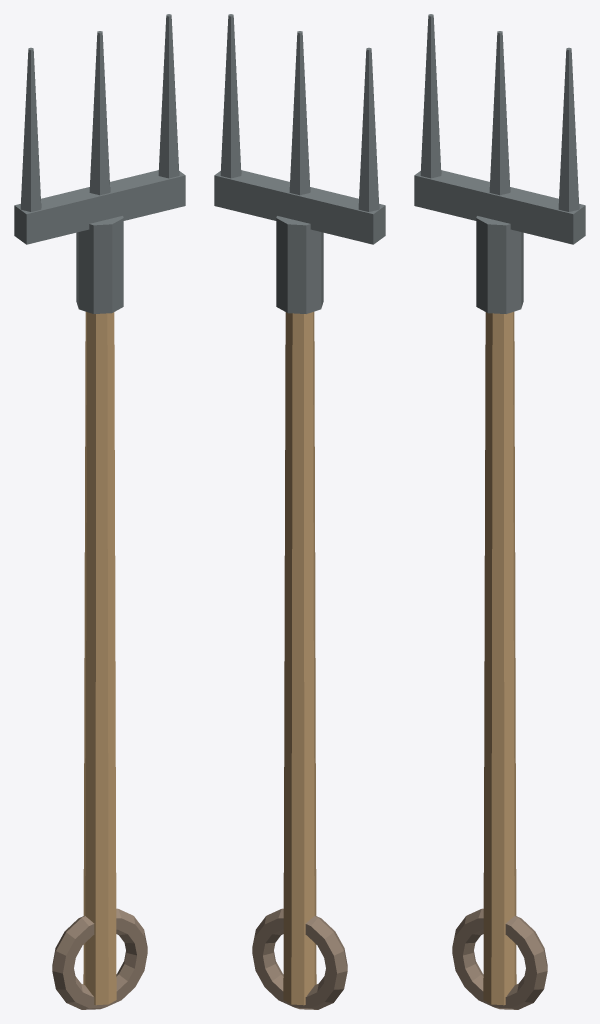
Rendered from harvest-hearth-three-tine-pitchfork__67.glb.
3 renders of one model, left to right at view 1: azimuth 30°, elevation 25°; view 2: azimuth 150°, elevation 25°; view 3: azimuth 330°, elevation 25°, orthographic.
Parts seen in each view (by area): view 1: harvest-hearth-pitchfork; view 2: harvest-hearth-pitchfork; view 3: harvest-hearth-pitchfork.
Part boxes in pixels (<box>): harvest-hearth-pitchfork: <box>14,14,185,1009</box>; harvest-hearth-pitchfork: <box>214,14,385,1009</box>; harvest-hearth-pitchfork: <box>414,14,585,1009</box>.
Size of the model in its own units: 0.3 by 1.76 by 0.08.
